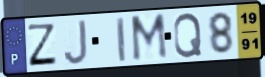8: (206, 10, 236, 56)
I: (115, 15, 128, 64)
J: (62, 18, 89, 67)
M: (129, 12, 170, 64)
Q: (172, 12, 204, 60)
Z: (27, 23, 59, 68)
